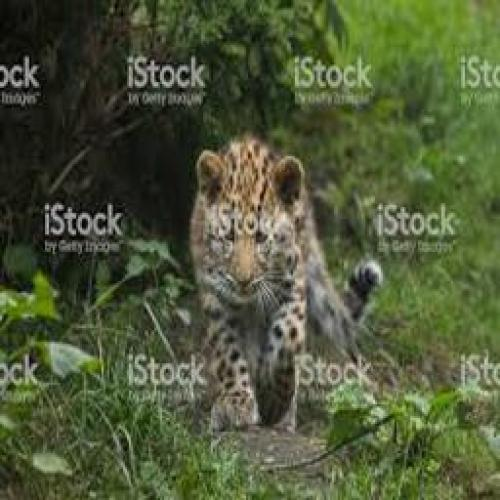amur_leopard-endangered: (179, 130, 388, 432)
